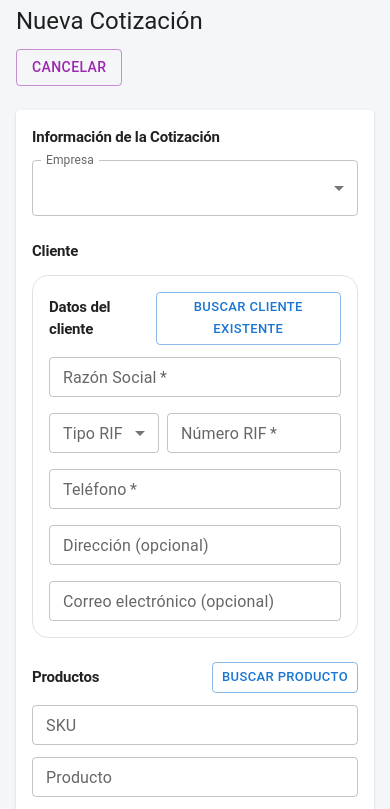
CotizacionFormPage (characterization) › selecciona un cliente desde el modal de búsqueda (cubre getFieldString)
Expected: the heading "Nueva Cotización" is shown, [16, 5, 203, 37]
Click the button "Buscar cliente existente" at (248, 318), box [156, 292, 341, 345]
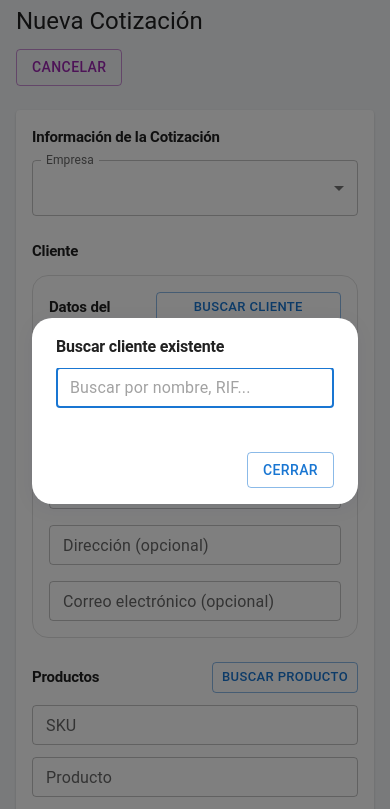
Type "Cliente" into the field with placeholder "Buscar por nombre, RIF..." at (195, 388), box [56, 368, 334, 408]
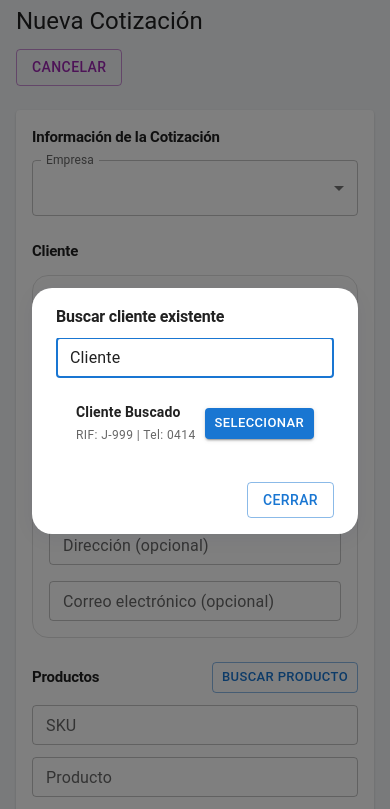
Click the button "Seleccionar" at (259, 424), box [205, 408, 314, 439]
(page scrolled)
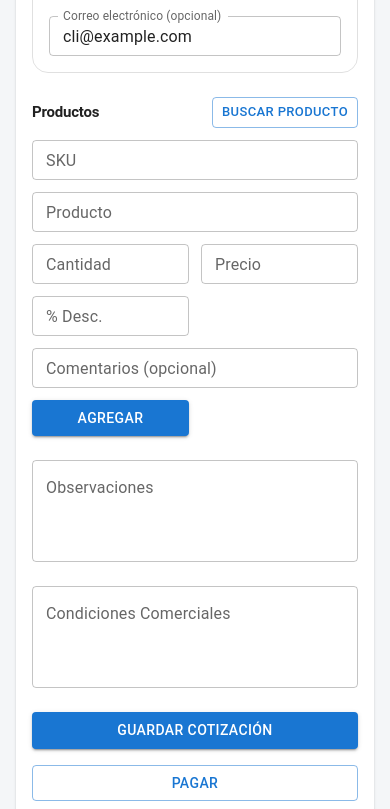
Now the field showing "cli@example.com" is shown, box [49, 16, 341, 56]
Now the button "Guardar Cotización" is enabled, box [32, 712, 358, 749]
